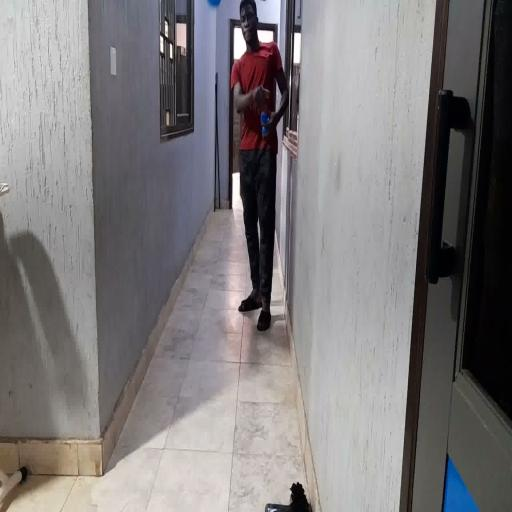plastic-ball: (205, 0, 221, 13)
